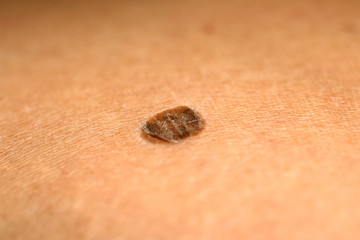melanoma: (130, 101, 225, 154)
